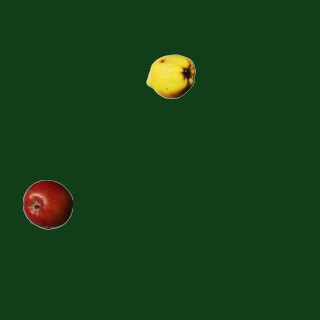Apple Braeburn: (22, 179, 72, 229)
Quince: (145, 51, 195, 101)
